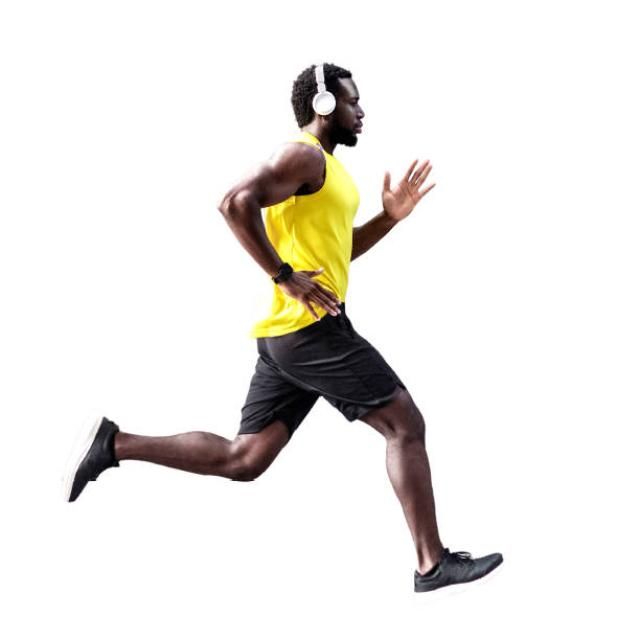Person: (70, 64, 502, 599)
